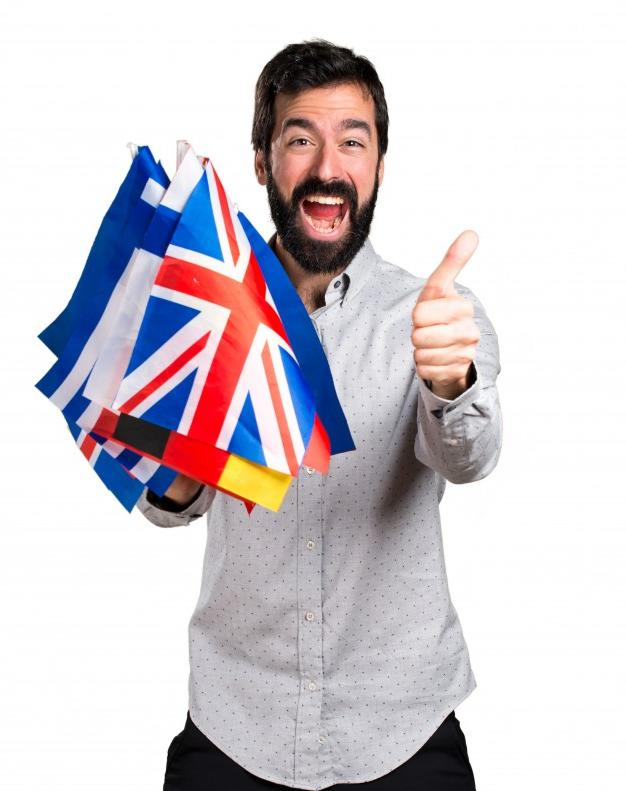thumbsup: (411, 230, 479, 380)
